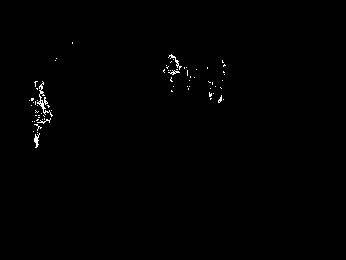person: (28, 79, 53, 150), (163, 51, 184, 94)
